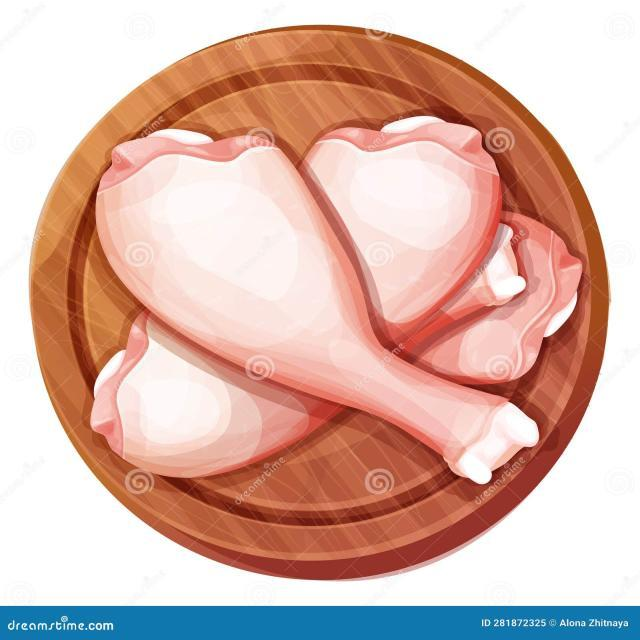leg: (111, 122, 524, 476), (72, 300, 562, 478), (298, 100, 484, 336)
